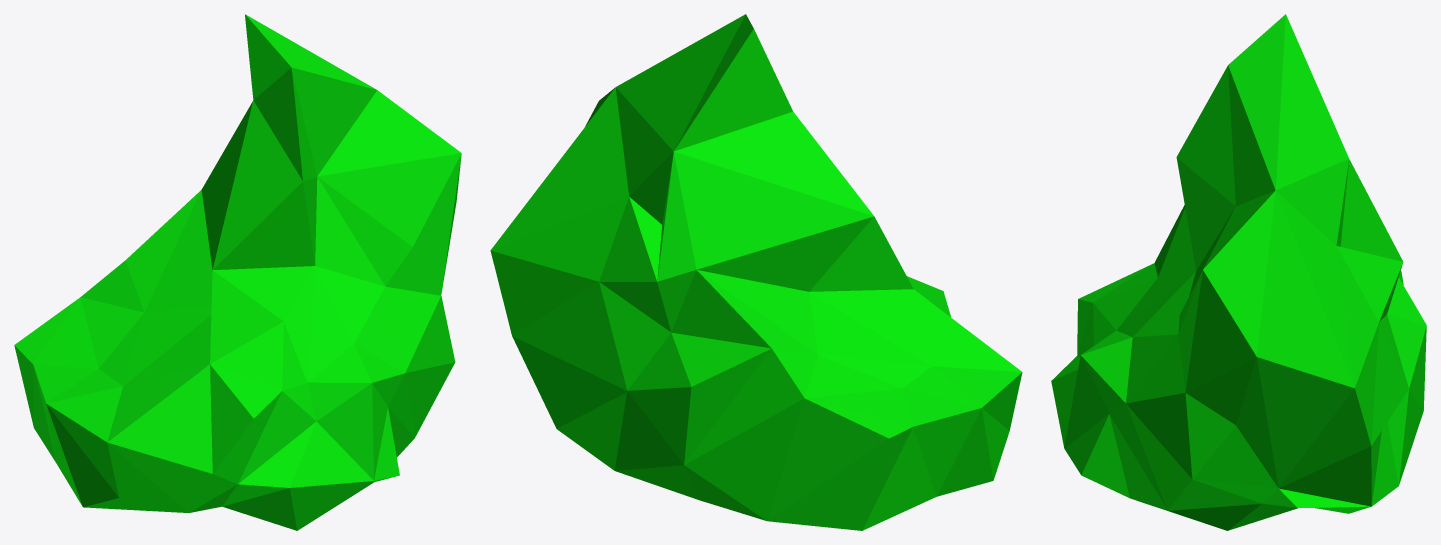
File: meteor_green_flow_shard_06.glb
3 renders of one model, left to right at view 1: azimuth 30°, elevation 25°; view 2: azimuth 150°, elevation 25°; view 3: azimuth 270°, elevation 25°, orthographic. The views are drawn at different scales.
Parts seen in each view (by area): view 1: Mesh1.0; view 2: Mesh1.0; view 3: Mesh1.0.
Part boxes in pixels (<box>): Mesh1.0: <box>14,14,461,530</box>; Mesh1.0: <box>490,14,1022,530</box>; Mesh1.0: <box>1051,14,1426,530</box>.
Size of the model in its own units: 1.85 by 1.9 by 1.35.
